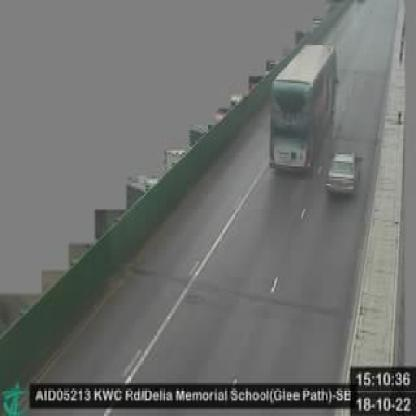Bus: (268, 44, 341, 174)
Car: (324, 152, 364, 196)
